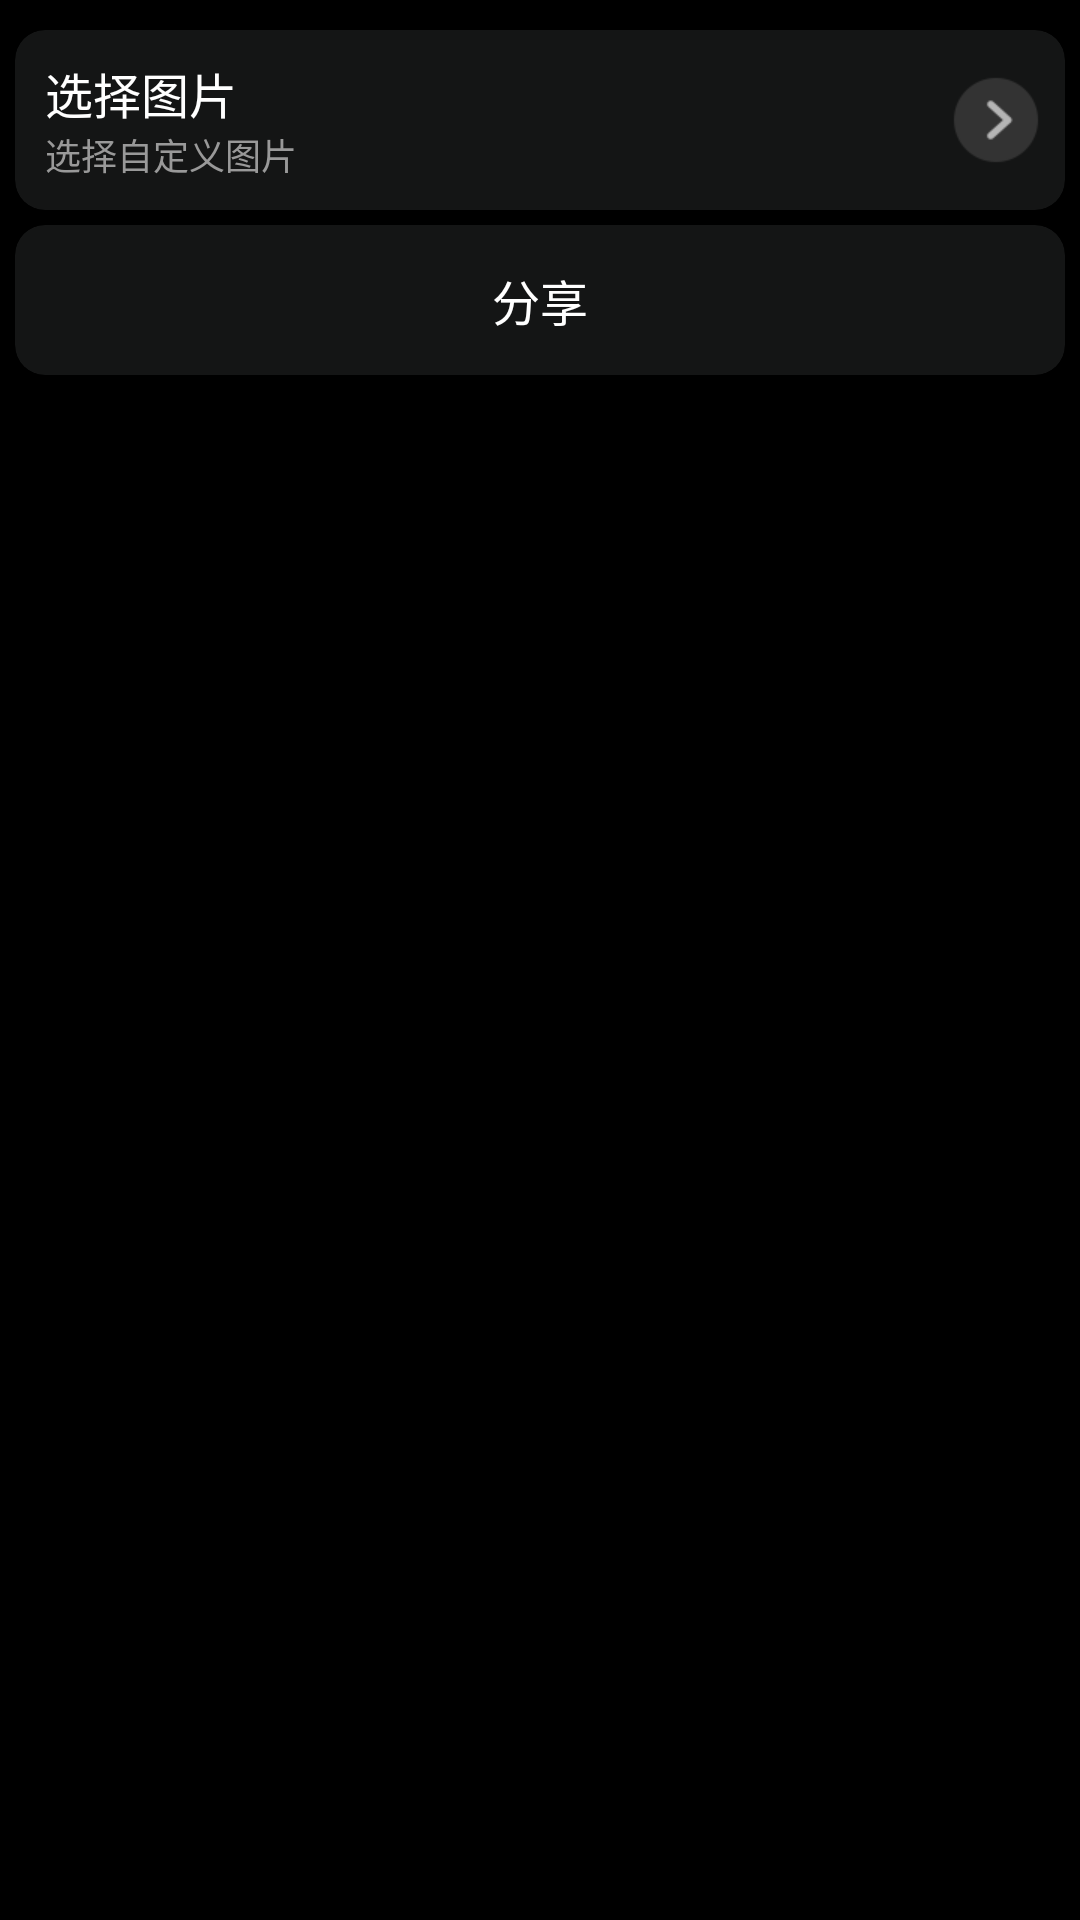

Where icons sit on this 1080w x 1920h app screen, as rect(x1, y1, x2, y2):
next: rect(954, 78, 1038, 162)
